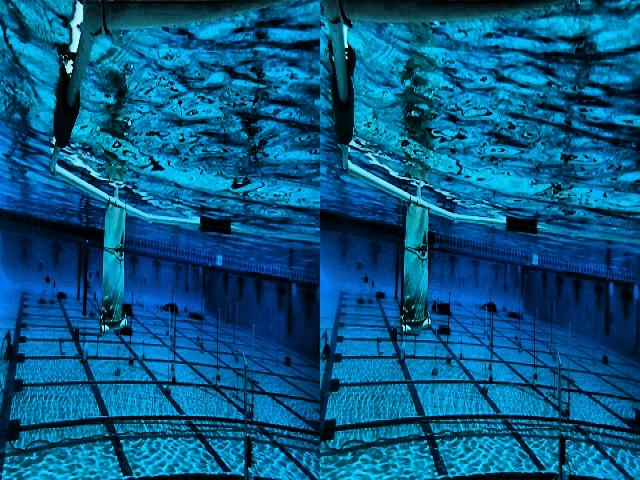octagon_top: (321, 0, 639, 333), (49, 0, 320, 333)
path_marker: (233, 368, 260, 410), (550, 368, 576, 408), (396, 332, 421, 360), (78, 332, 102, 361)
sawfish: (402, 204, 428, 322), (101, 199, 125, 326)
